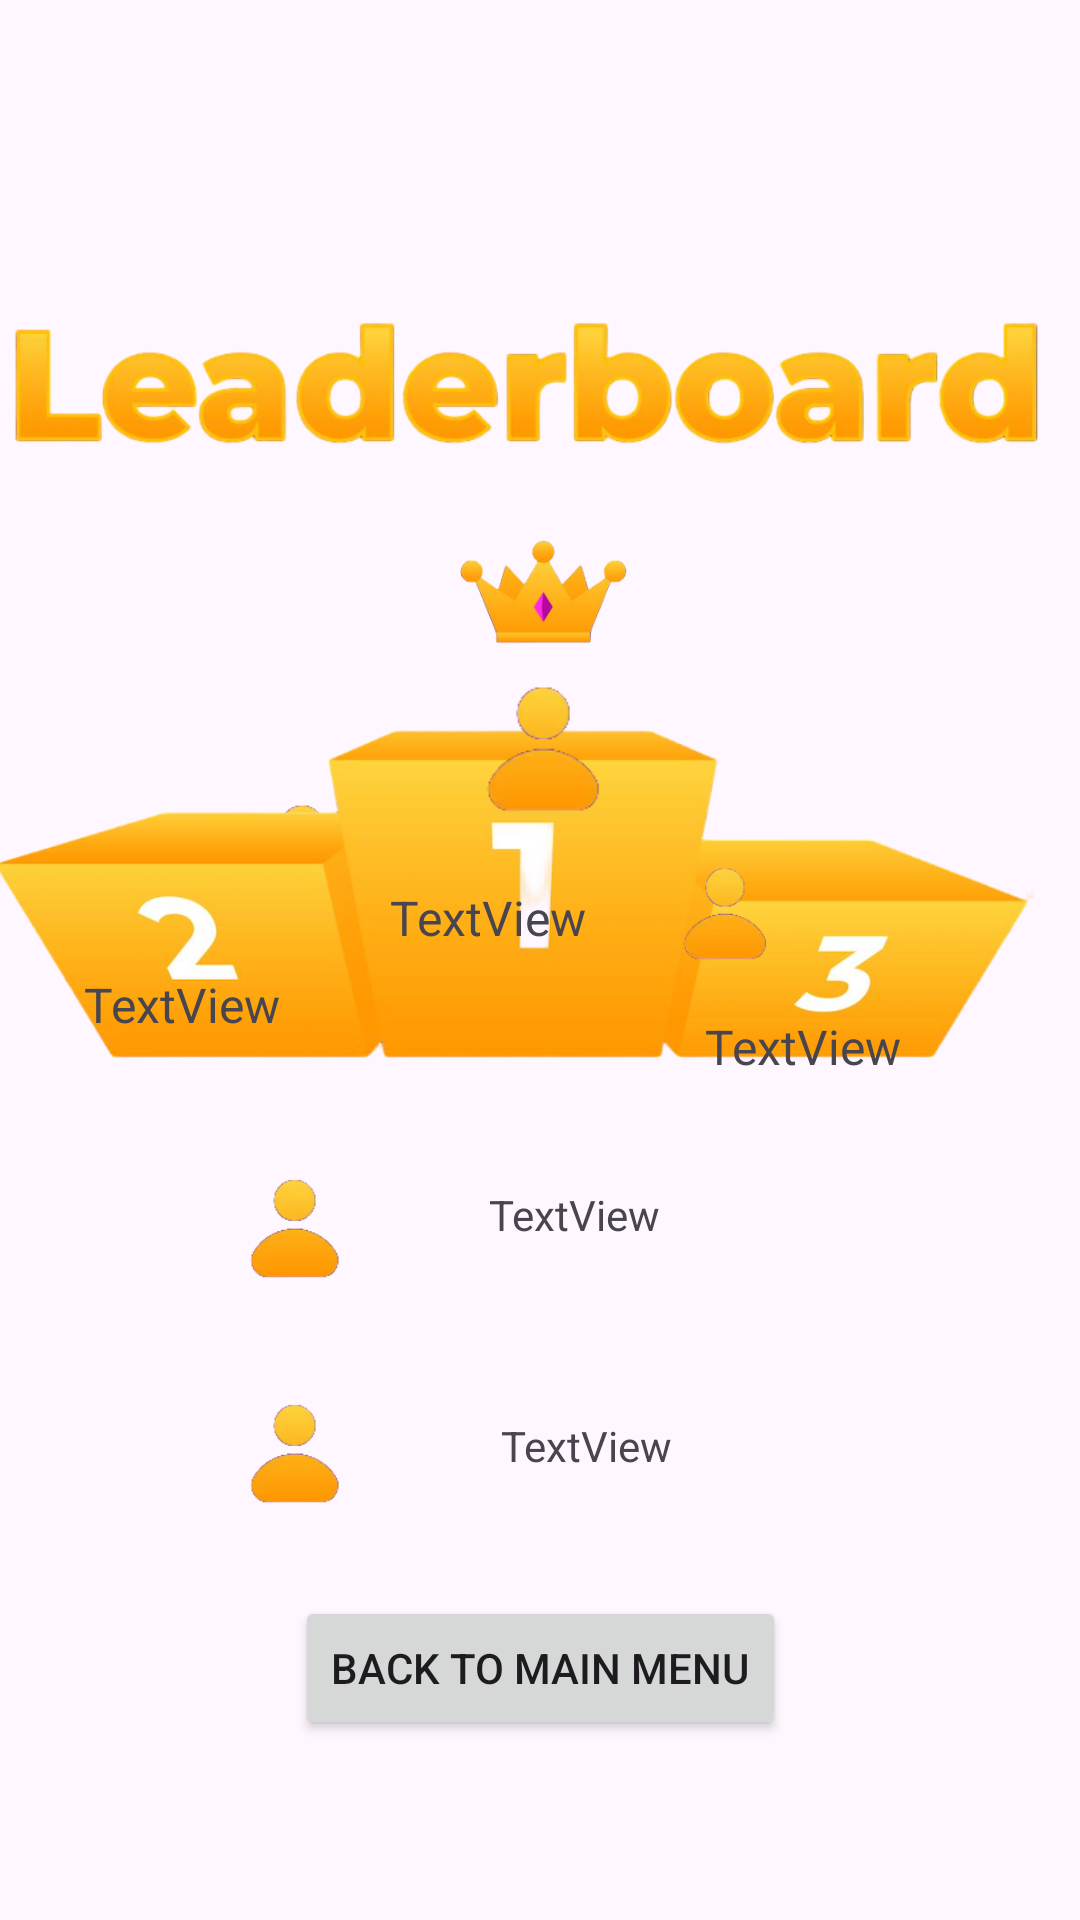

Screen size 1080x1920. Icon name, then its box in pixels as (x1, y1, x2, y2):
leaderboard crown: (460, 540, 627, 643)
